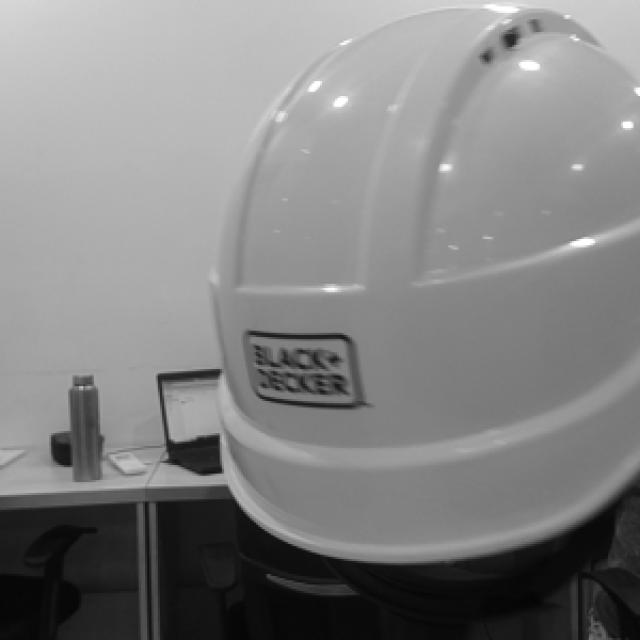safety_helmet: (209, 6, 640, 564)
